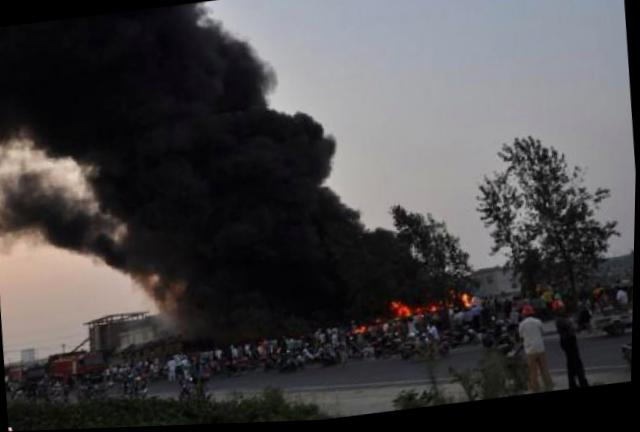fire: (464, 296, 478, 312), (399, 308, 415, 321)
